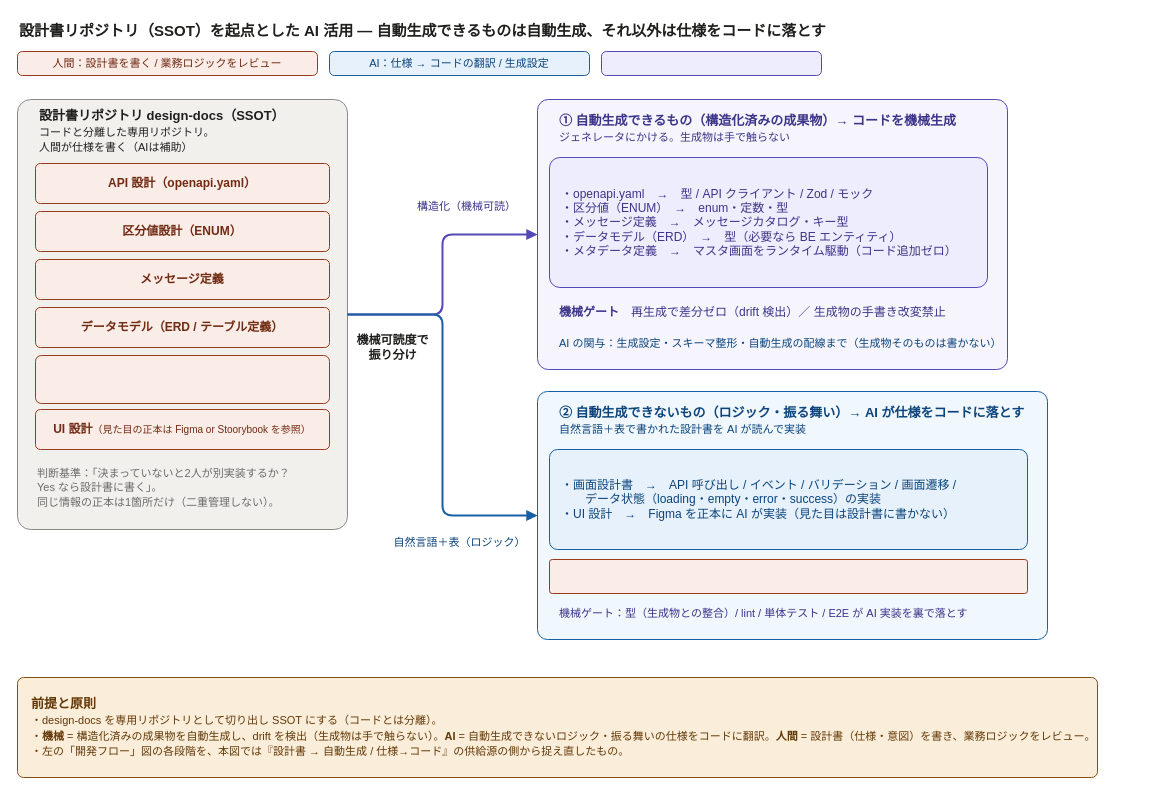
The diagram is 1167 pixels wide and 795 high, and some of its shapes have lost their labels. The centre of each missing label's shape, as x and y in pixels:
人間 業務ロジックの正しさをレビュー（AI の実装を追認＝ラバースタンプしない）: [788,576]
機械：自動生成 / drift 検出: [711,63]
画面設計書 API呼び出し / イベント / バリデーション / 状態: [182,379]
